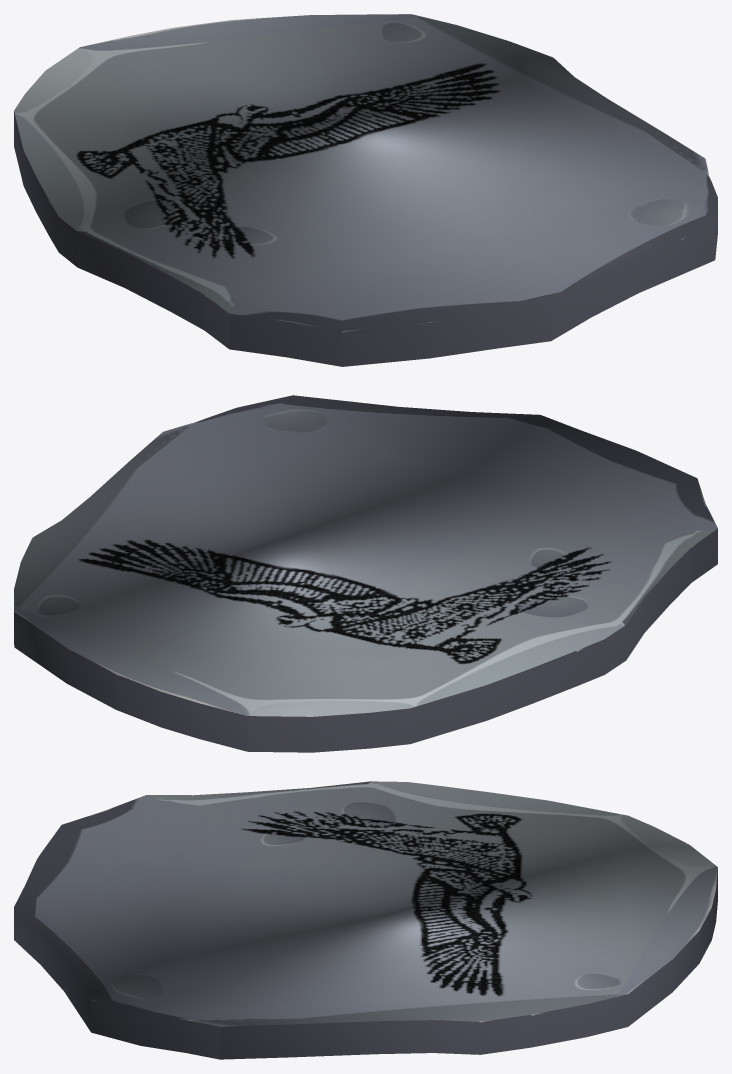
File: runeNekhbet.glb
3 renders of one model, top to bottom at view 1: azimuth 30°, elevation 25°; view 2: azimuth 150°, elevation 25°; view 3: azimuth 270°, elevation 25°, orthographic. The views are drawn at different scales.
Visible parts, largest first — view 1: rune; view 2: rune; view 3: rune.
Boxes of the visible parts, left/top/right/bottom form: rune: left=14, top=14, right=717, bottom=366; rune: left=14, top=395, right=717, bottom=752; rune: left=14, top=781, right=717, bottom=1059.
Bounding box in the file's own units: 0.8115 × 0.0509 × 0.9844.
1 material, 1 textured.
